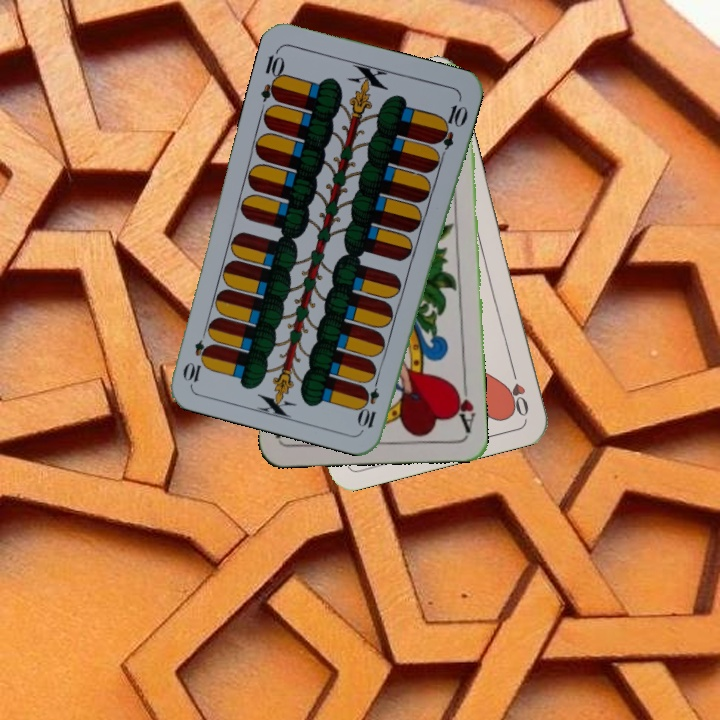E10: (256, 45, 287, 104), (357, 372, 382, 431)
HA: (450, 376, 478, 435)
HO: (505, 361, 531, 420)
